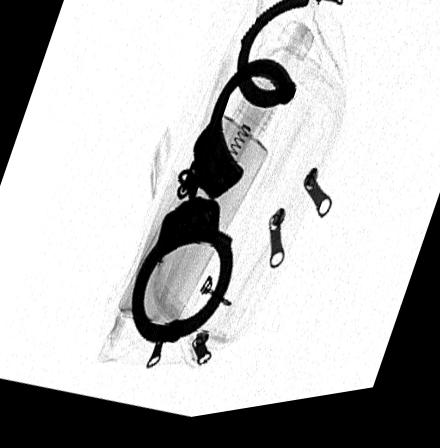HandCuffs: (129, 2, 309, 350)
